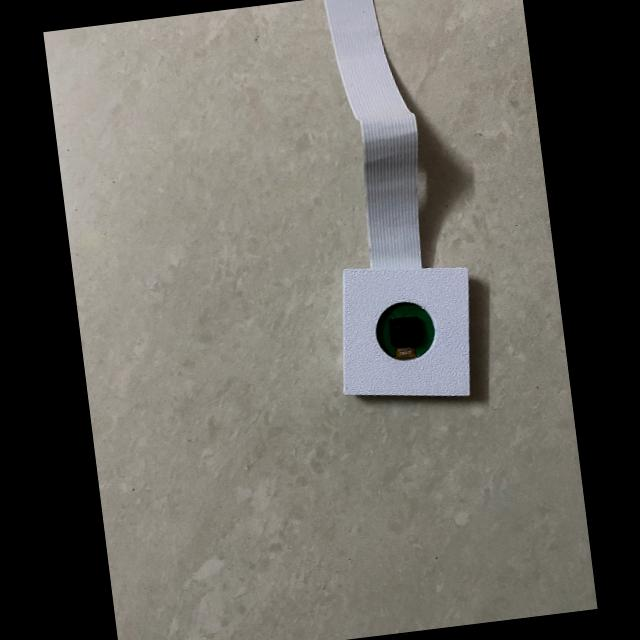RASPBERY PI CAM ENCLOSURE: (329, 252, 483, 410)
